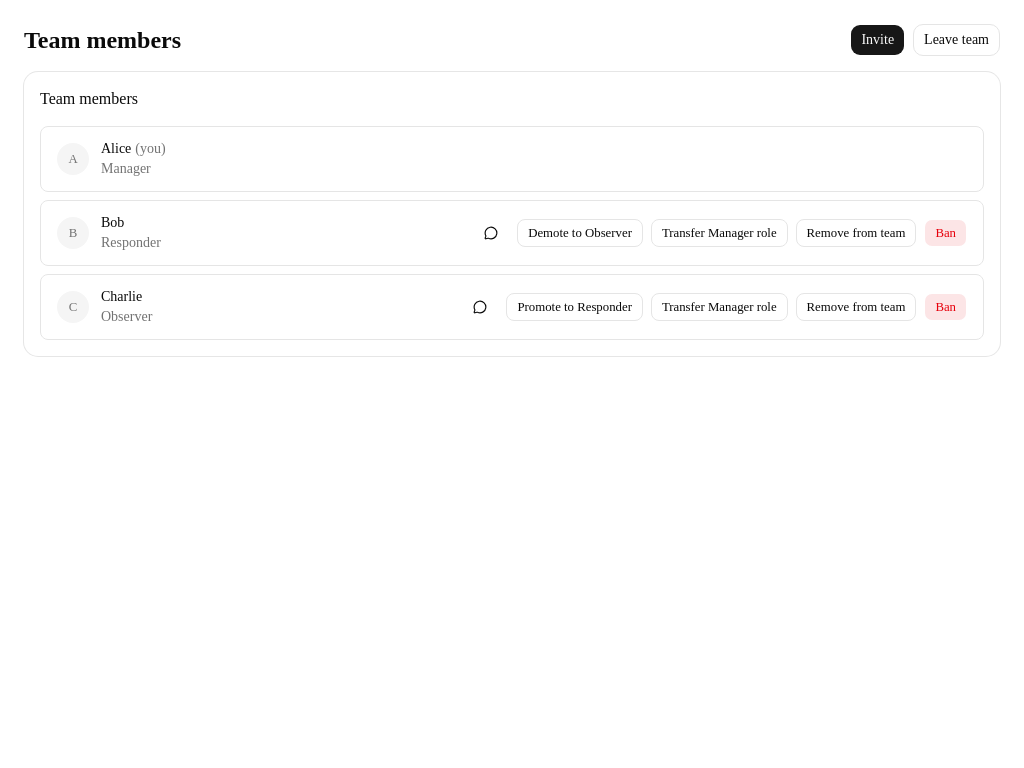
Test case: MembersClient › opens the invitation dialog when invite button is clicked
Expected: the text "Alice" is shown, [101,141,131,156]
Click the button "Invite" at (878, 40), box [850,24,905,56]
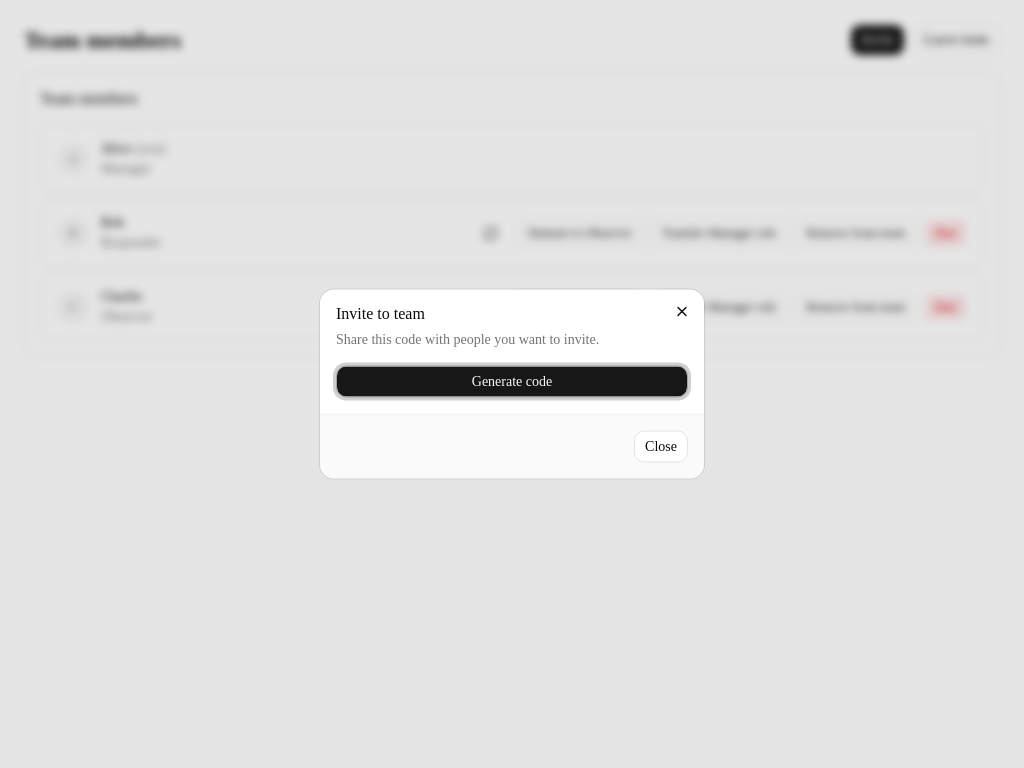
Expected: the button "Generate code" is shown, [336,366,688,398]
